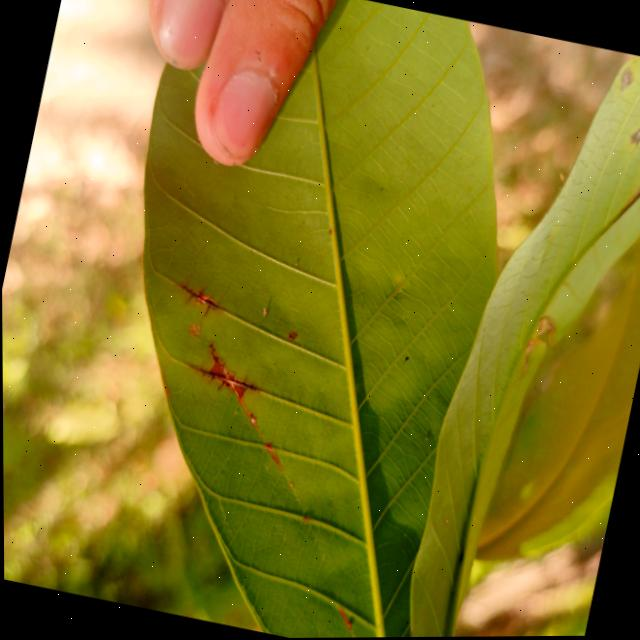Corynespora: (174, 282, 223, 319)
